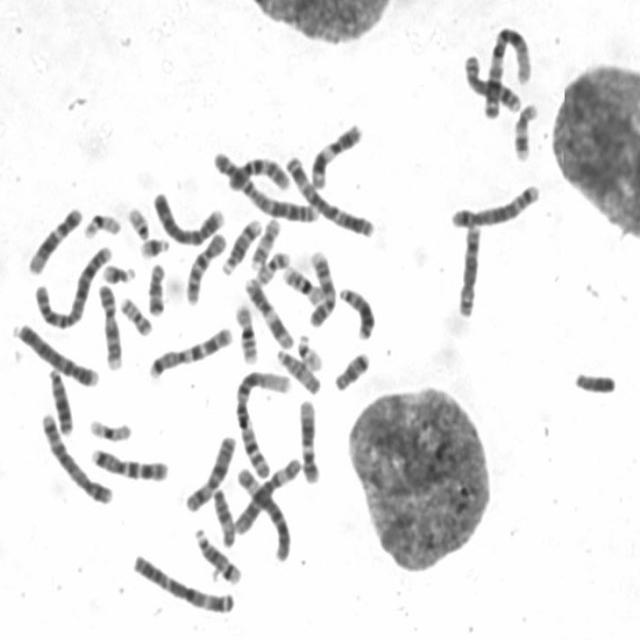A1: (231, 364, 293, 480), (479, 19, 533, 121)
A2: (211, 147, 319, 224), (30, 238, 115, 331)
A3: (281, 149, 377, 239), (128, 548, 238, 614)
B4: (10, 318, 100, 389), (148, 185, 228, 247)
B5: (37, 406, 114, 506), (446, 178, 542, 230)
C10: (182, 226, 230, 308), (218, 150, 293, 191)
C11: (240, 272, 296, 351), (306, 117, 365, 190)
C12: (25, 200, 84, 275), (296, 393, 324, 485)
C6: (231, 451, 304, 536), (232, 462, 293, 562)
C7: (145, 321, 235, 380), (87, 441, 172, 483)
C8: (460, 49, 522, 114), (453, 218, 484, 319)
C9: (305, 244, 339, 328), (94, 278, 124, 371)
D13: (335, 281, 377, 341), (43, 361, 75, 436)
D14: (191, 523, 244, 586), (218, 212, 264, 276)
D15: (272, 342, 322, 396), (208, 482, 238, 548)
E16: (280, 261, 326, 305), (232, 298, 262, 364)
E17: (509, 95, 541, 163), (248, 213, 282, 270)
E18: (331, 346, 372, 392), (143, 256, 169, 317)
F19: (85, 412, 134, 443), (80, 208, 123, 240)
F20: (116, 290, 154, 337), (252, 246, 292, 286)
G21: (99, 258, 138, 285), (136, 232, 171, 259)
G22: (294, 329, 325, 372), (124, 201, 152, 240)
X: (180, 429, 238, 514)
Y: (570, 364, 618, 396)
